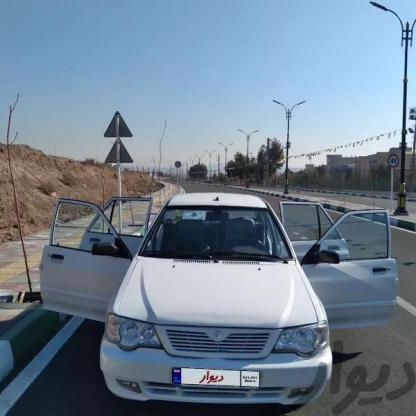Car: (88, 193, 337, 409)
